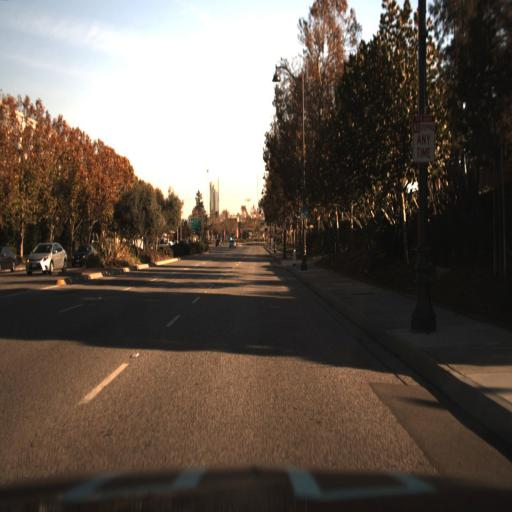car: (25, 239, 68, 275), (70, 236, 104, 269), (153, 231, 171, 257), (226, 234, 240, 257)
